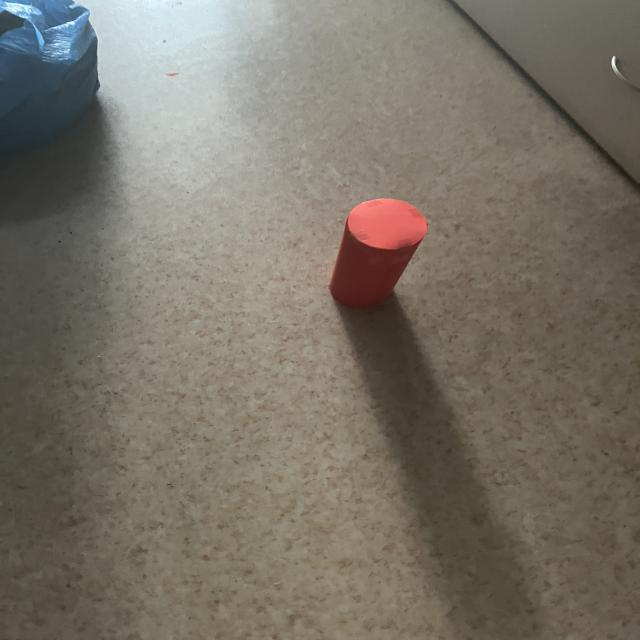przeszkoda: (329, 198, 427, 308)
